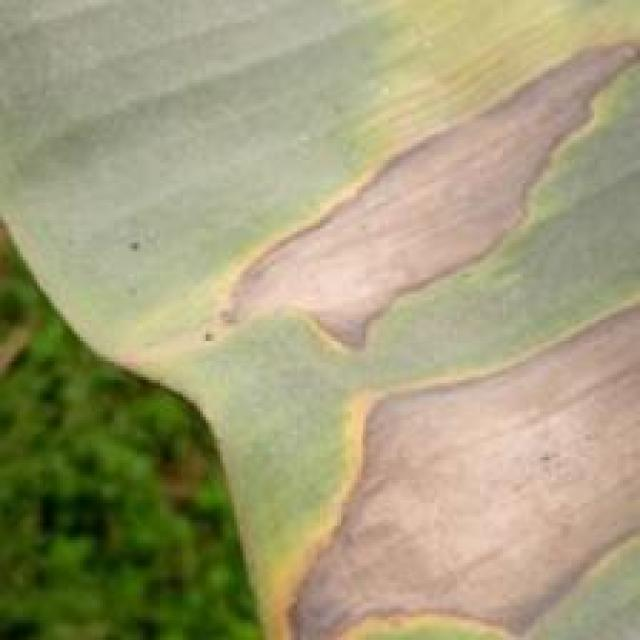Bacterial_spot: (197, 26, 640, 375), (247, 301, 640, 639)
